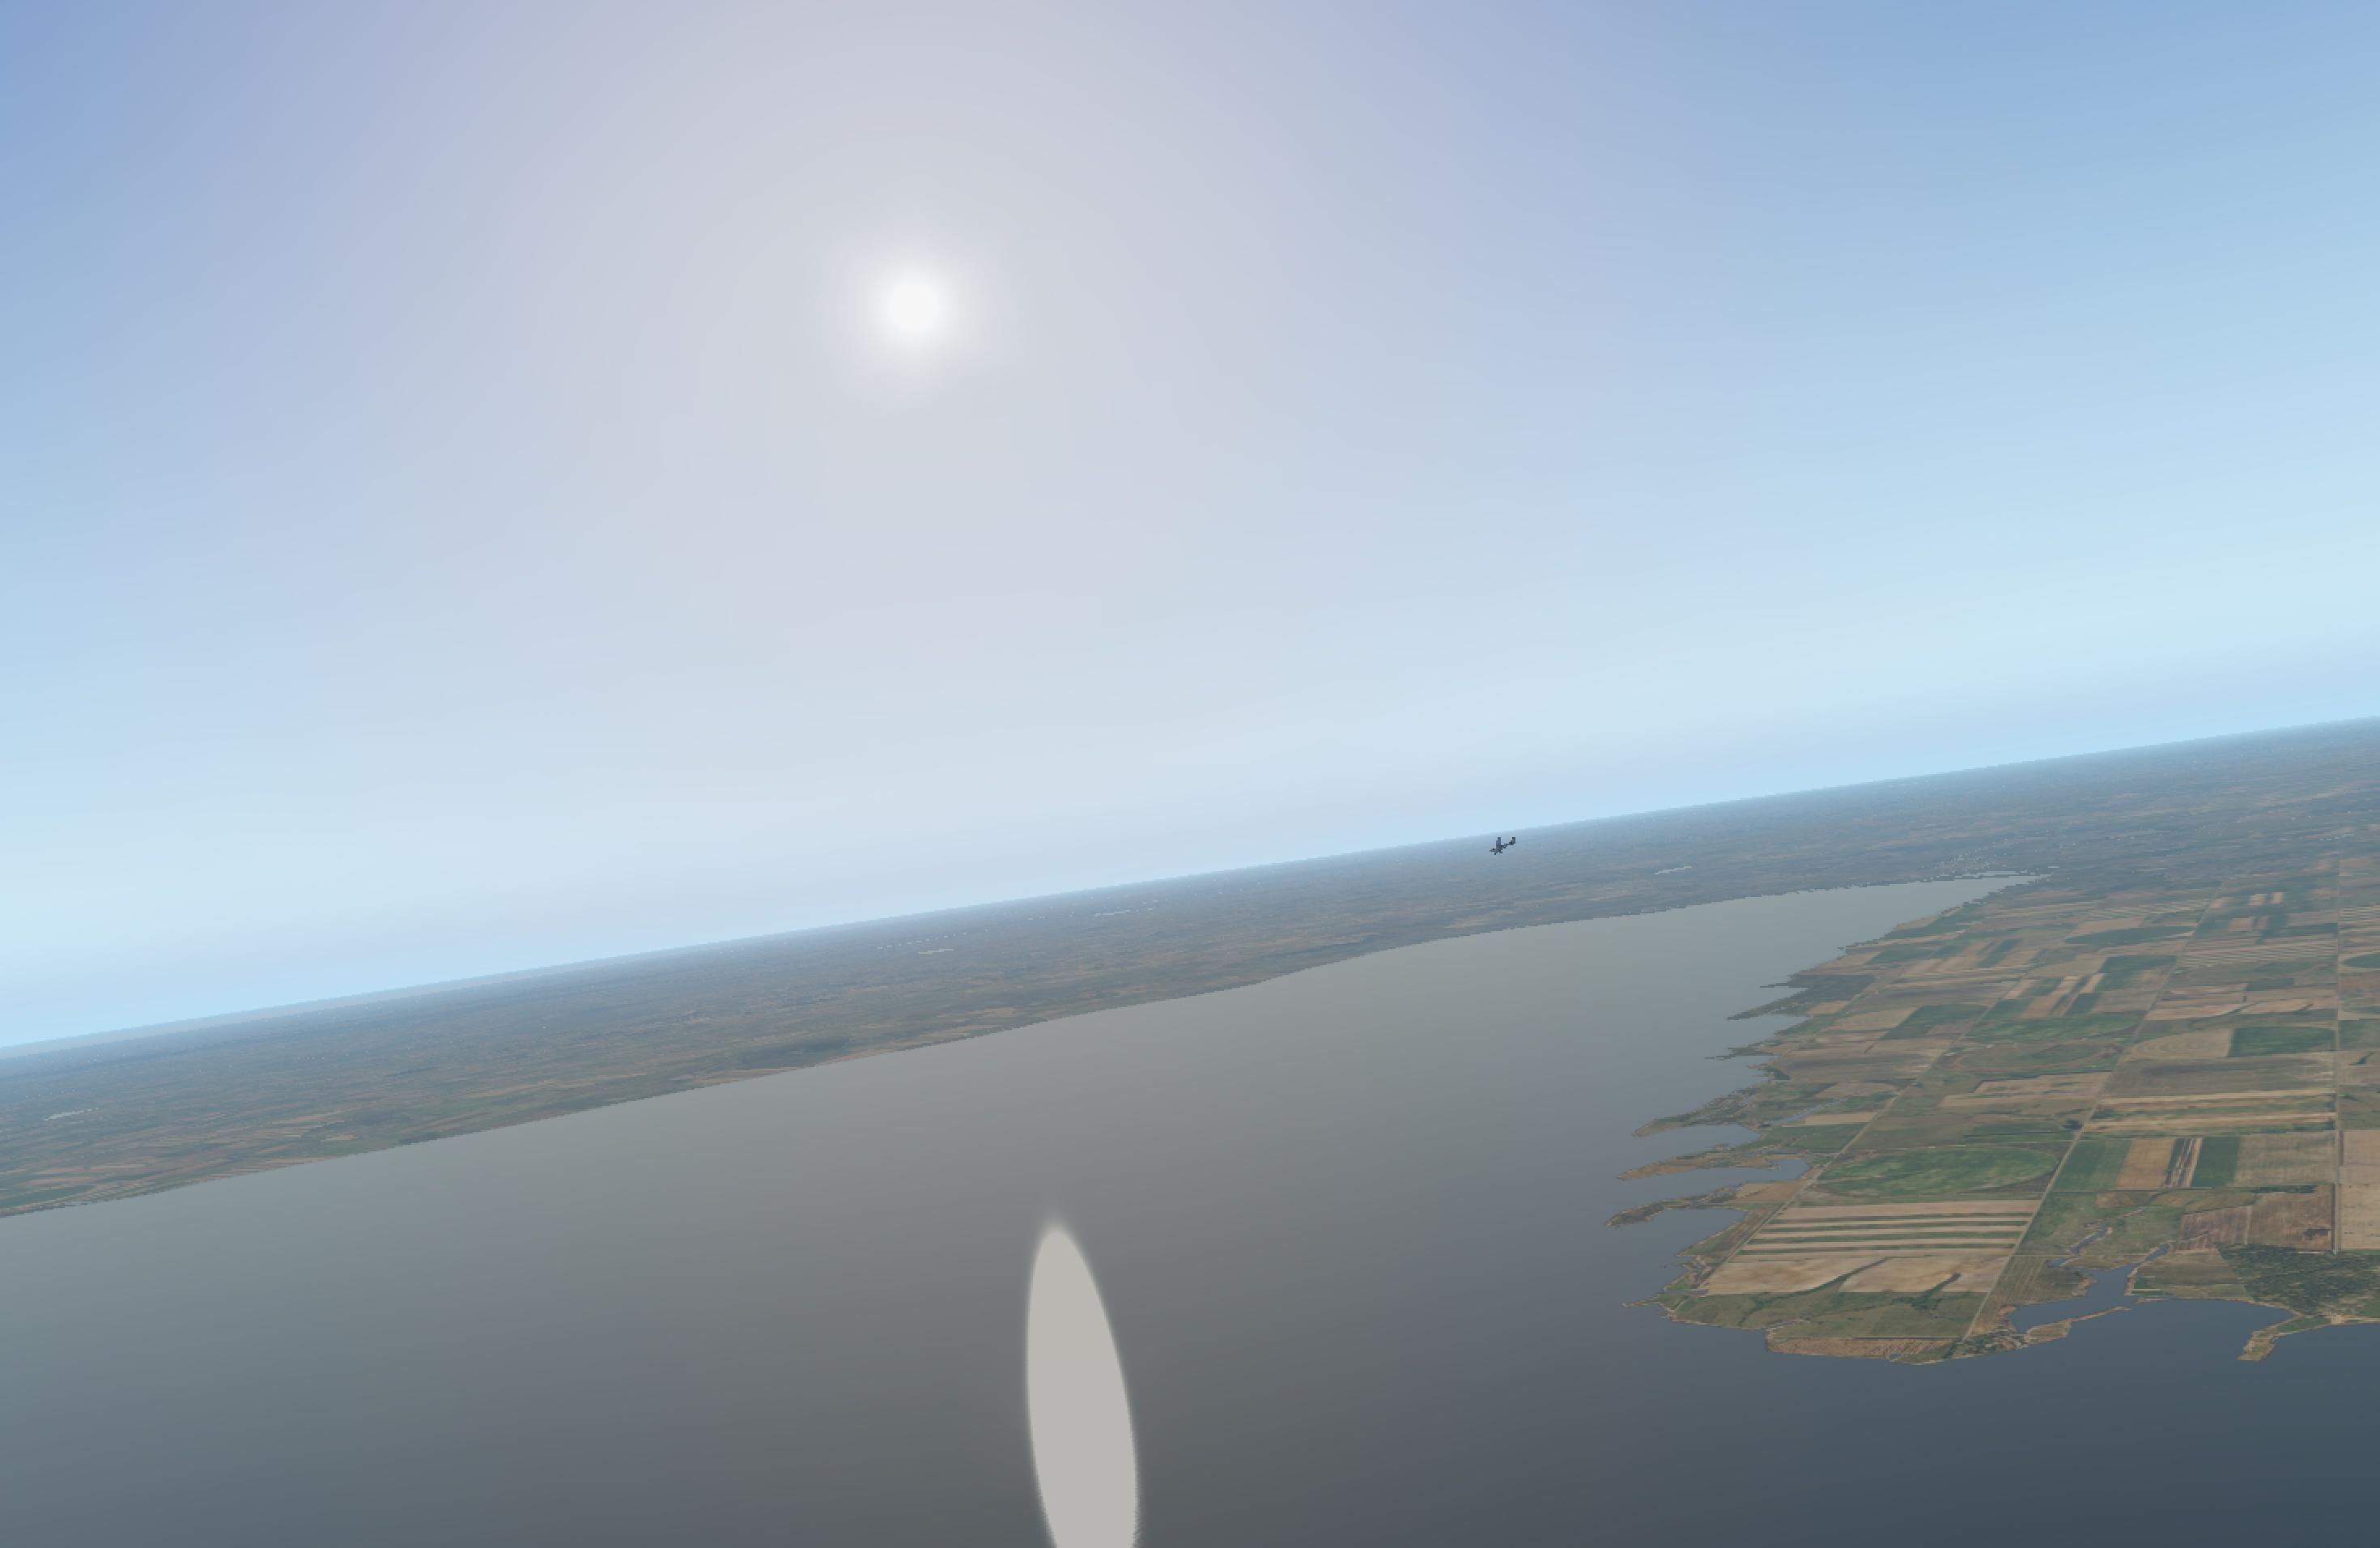aircraft: (1483, 843, 1511, 854)
